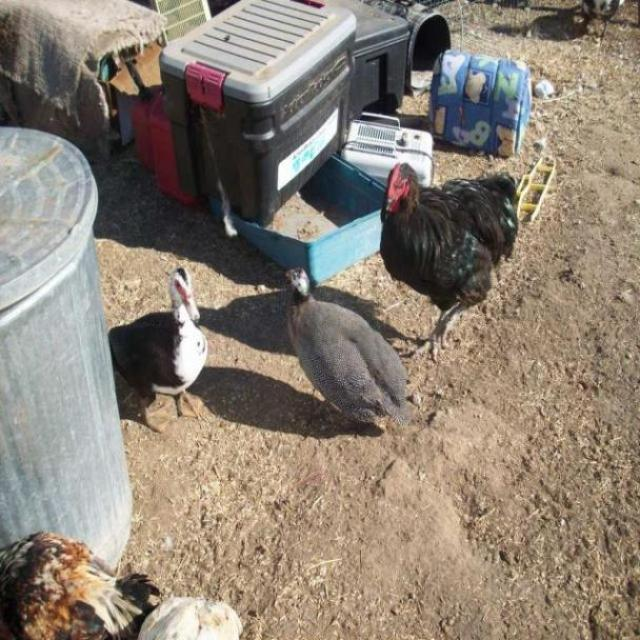Chicken: (377, 161, 511, 360), (0, 528, 163, 640)
